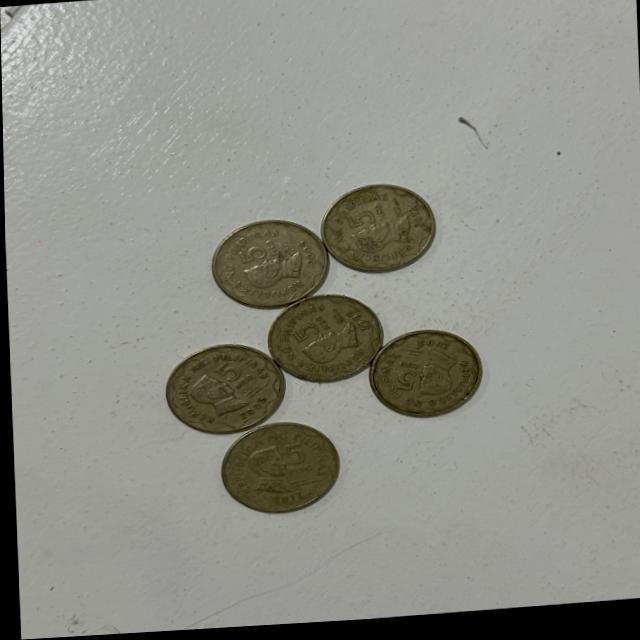5_Old_Front: (336, 205, 395, 241), (275, 438, 315, 485), (233, 237, 285, 265), (387, 358, 419, 397), (279, 315, 323, 342), (210, 361, 249, 390)
